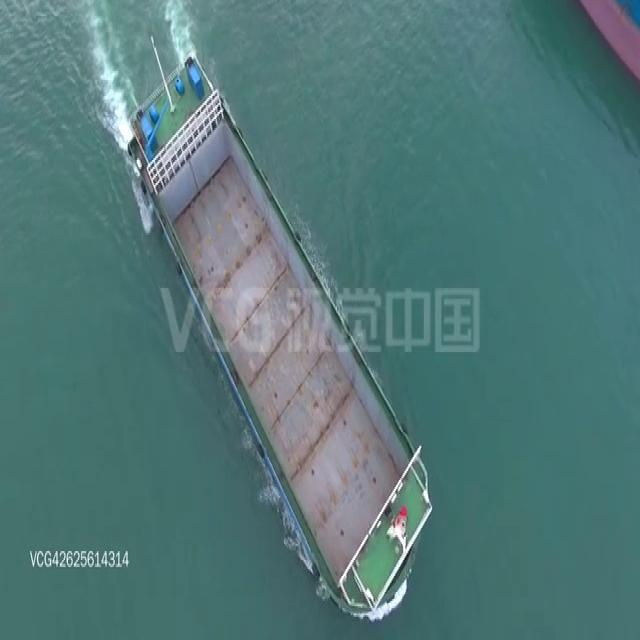cargoship: (130, 45, 436, 626)
